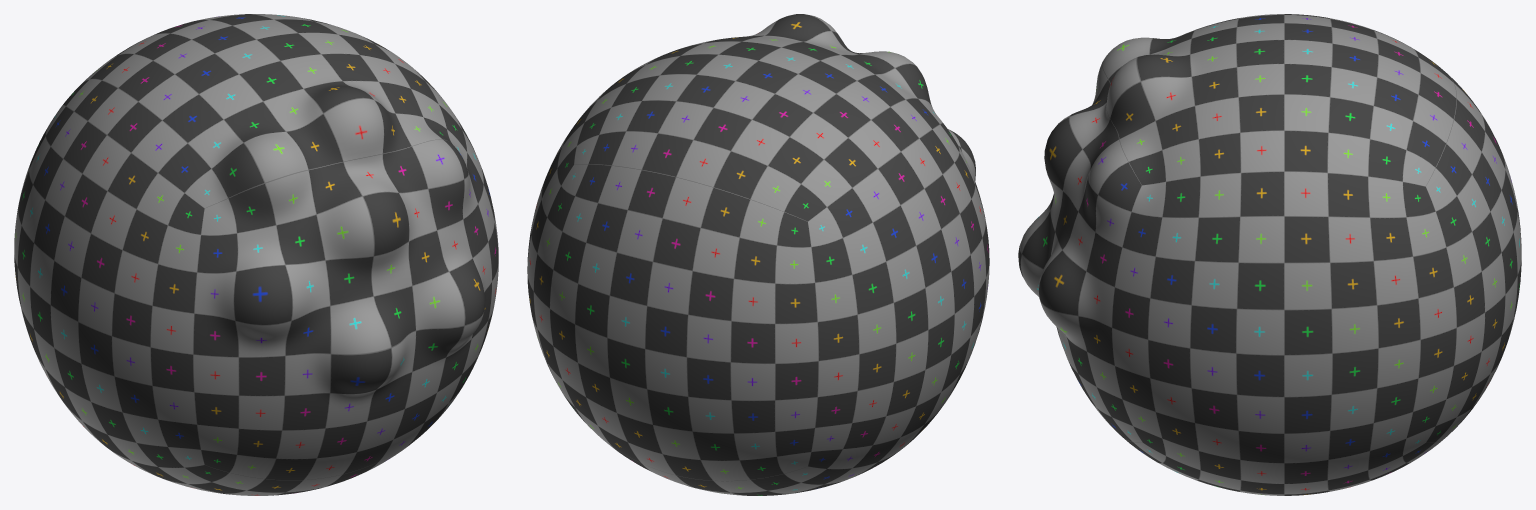
Rendered from sculpt_test.gltf.
The picture shows the model from 3 angles, left to right: view 1: azimuth 30°, elevation 25°; view 2: azimuth 150°, elevation 25°; view 3: azimuth 270°, elevation 25°; orthographic projection. The views are drawn at different scales.
Parts seen in each view (by area): view 1: Cube; view 2: Cube; view 3: Cube.
Part boxes in pixels (box(x1,y1,x2,y2)): Cube: box(14, 14, 498, 495); Cube: box(527, 14, 989, 495); Cube: box(1018, 14, 1521, 495).
Bounding box in the file's own units: 1.68 × 1.68 × 1.78.
Materials: 1 (1 with a texture image).
